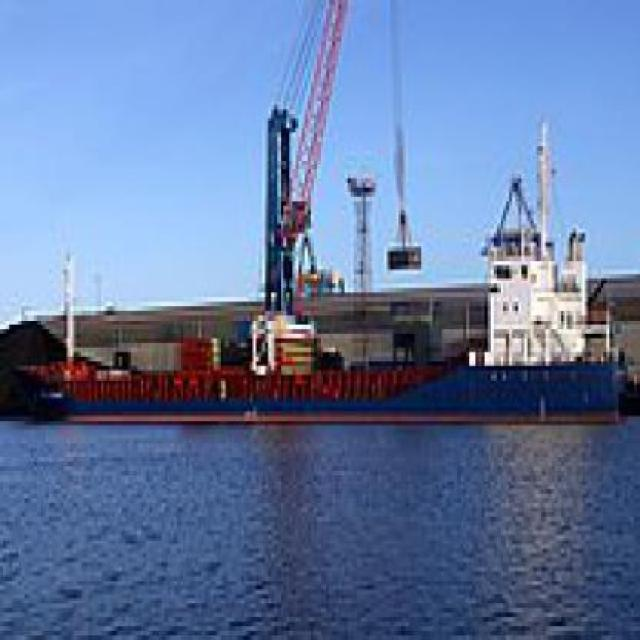container: (1, 79, 638, 450)
